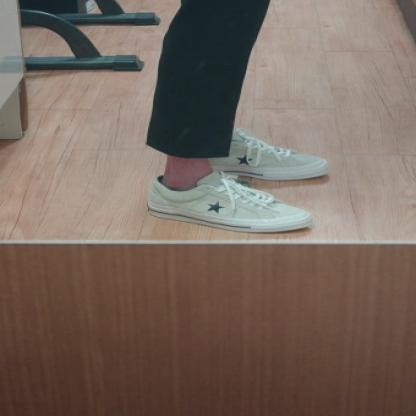no_safety-shoe: (134, 172, 328, 242), (200, 127, 340, 181)
